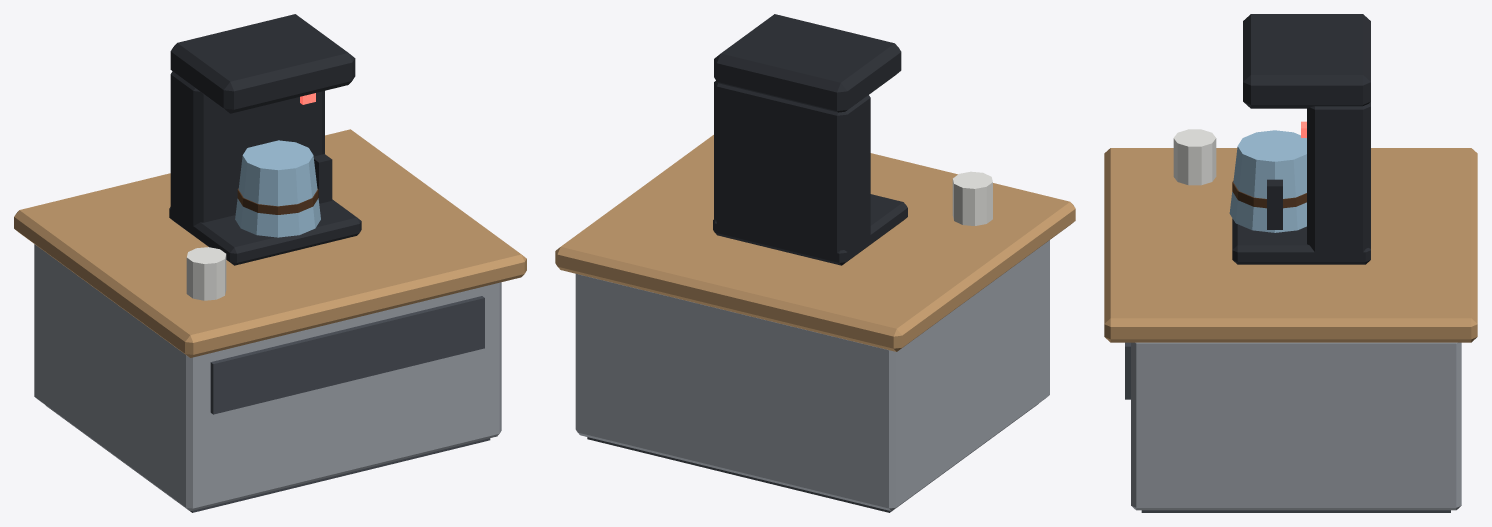
Rendered from coffee_1.glb.
3 views of the same model, side by side, from view 1: azimuth 30°, elevation 25°; view 2: azimuth 150°, elevation 25°; view 3: azimuth 270°, elevation 25° (orthographic). The views are drawn at different scales.
Visible parts, largest first — view 1: coffee_1_mesh_Desk, coffee_1_mesh; view 2: coffee_1_mesh_Desk, coffee_1_mesh; view 3: coffee_1_mesh_Desk, coffee_1_mesh.
Part boxes in pixels (left/top/right/bottom): coffee_1_mesh_Desk: left=14, top=129, right=526, bottom=512; coffee_1_mesh: left=169, top=14, right=361, bottom=300; coffee_1_mesh_Desk: left=555, top=135, right=1075, bottom=512; coffee_1_mesh: left=713, top=14, right=992, bottom=265; coffee_1_mesh_Desk: left=1104, top=148, right=1477, bottom=512; coffee_1_mesh: left=1173, top=14, right=1370, bottom=264.
Bounding box in the file's own units: 0.78 × 0.81 × 0.7.
